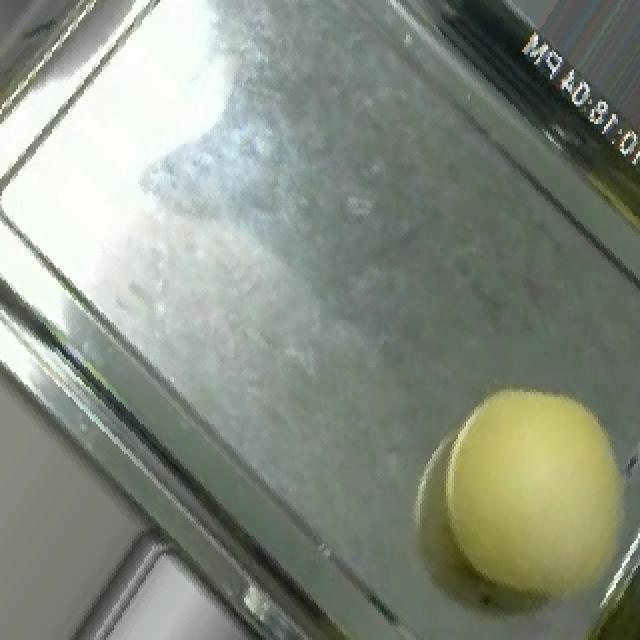Fruit: (388, 352, 640, 640)
